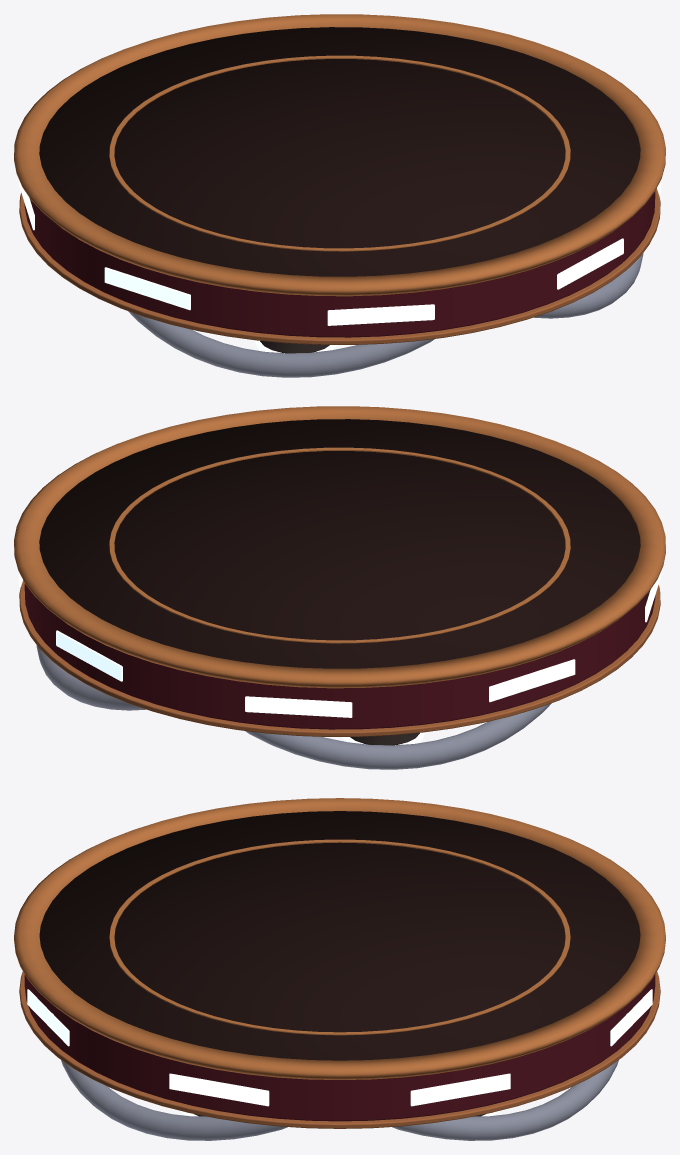
The model's file is Platform_Standard.glb.
The picture shows the model from 3 angles, top to bottom: view 1: azimuth 30°, elevation 25°; view 2: azimuth 150°, elevation 25°; view 3: azimuth 270°, elevation 25°; orthographic projection.
Parts seen in each view (by area): view 1: H_Deck, H_Lip, H_Rim, H_UTubes, H_RimFoot, H_DeckRing, H_RimNeon, H_Bells; view 2: H_Deck, H_Lip, H_Rim, H_UTubes, H_RimFoot, H_DeckRing, H_RimNeon, H_Bells; view 3: H_Deck, H_Lip, H_Rim, H_UTubes, H_RimFoot, H_RimNeon, H_DeckRing.
Part boxes in pixels (<box>): H_Deck: <box>39,27,640,276</box>; H_Lip: <box>14,14,665,296</box>; H_Rim: <box>24,191,655,337</box>; H_UTubes: <box>128,253,643,377</box>; H_RimFoot: <box>19,188,660,344</box>; H_DeckRing: <box>109,55,570,251</box>; H_RimNeon: <box>19,180,660,325</box>; H_Bells: <box>260,341,329,353</box>; H_Deck: <box>39,419,640,668</box>; H_Lip: <box>14,406,665,688</box>; H_Rim: <box>24,583,655,729</box>; H_UTubes: <box>36,645,551,769</box>; H_RimFoot: <box>19,580,660,736</box>; H_DeckRing: <box>109,447,570,643</box>; H_RimNeon: <box>19,572,660,717</box>; H_Bells: <box>350,733,419,745</box>; H_Deck: <box>39,811,640,1060</box>; H_Lip: <box>14,798,665,1079</box>; H_Rim: <box>24,974,655,1121</box>; H_UTubes: <box>61,1060,618,1140</box>; H_RimFoot: <box>19,971,660,1128</box>; H_RimNeon: <box>27,989,652,1106</box>; H_DeckRing: <box>109,839,570,1035</box>.
Size of the model in its own units: 12.32 by 2.58 by 12.32.
